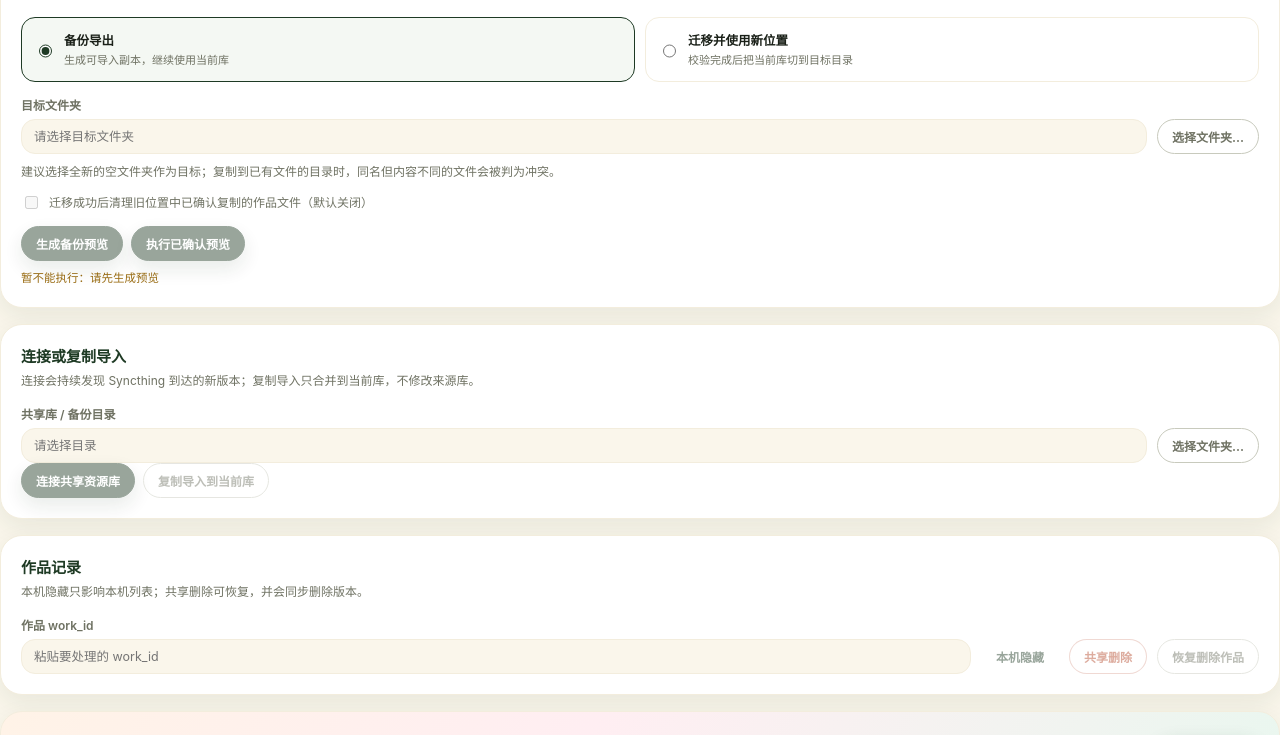
Test: 账号与资源库面板 › 复制导入按实际 copied 数量展示结果，而不是渲染结果对象
(page scrolled)
Click the button with test id "choose-library" at (1208, 445), box [1157,428,1259,463]
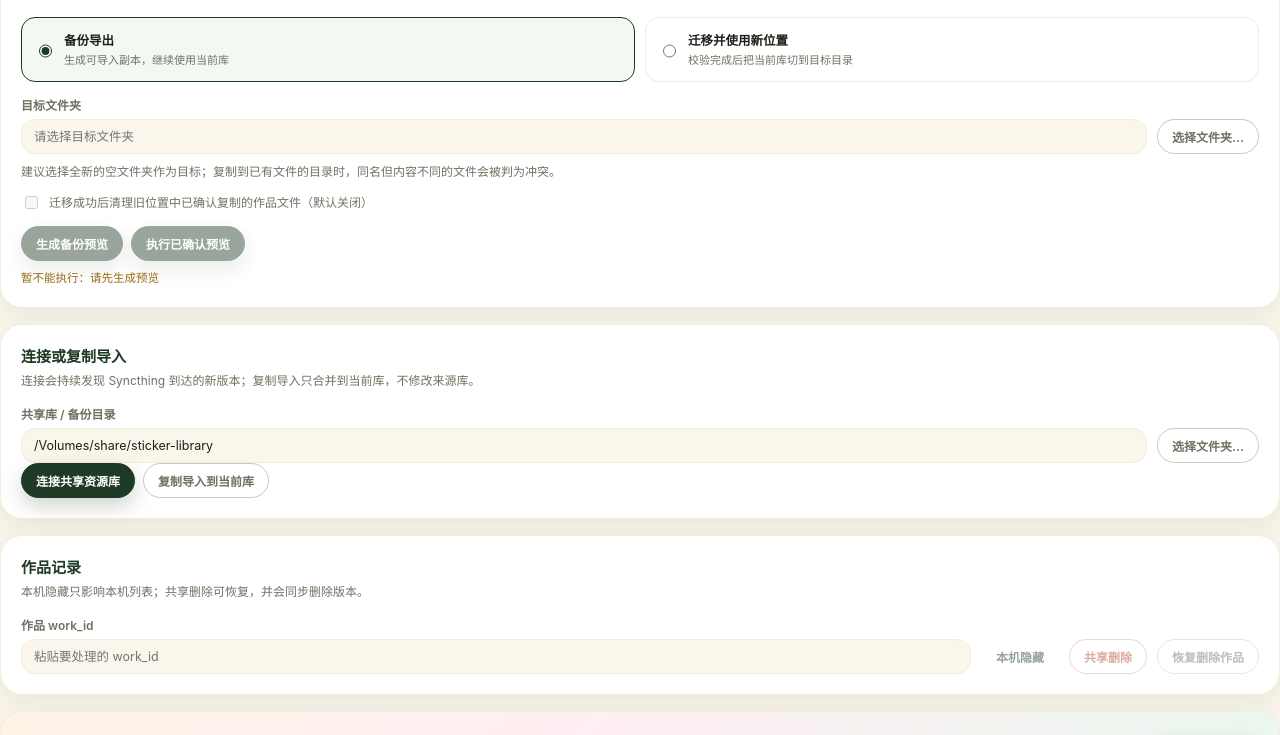
Click the button with test id "import-library" at (206, 480), box [143,463,269,498]
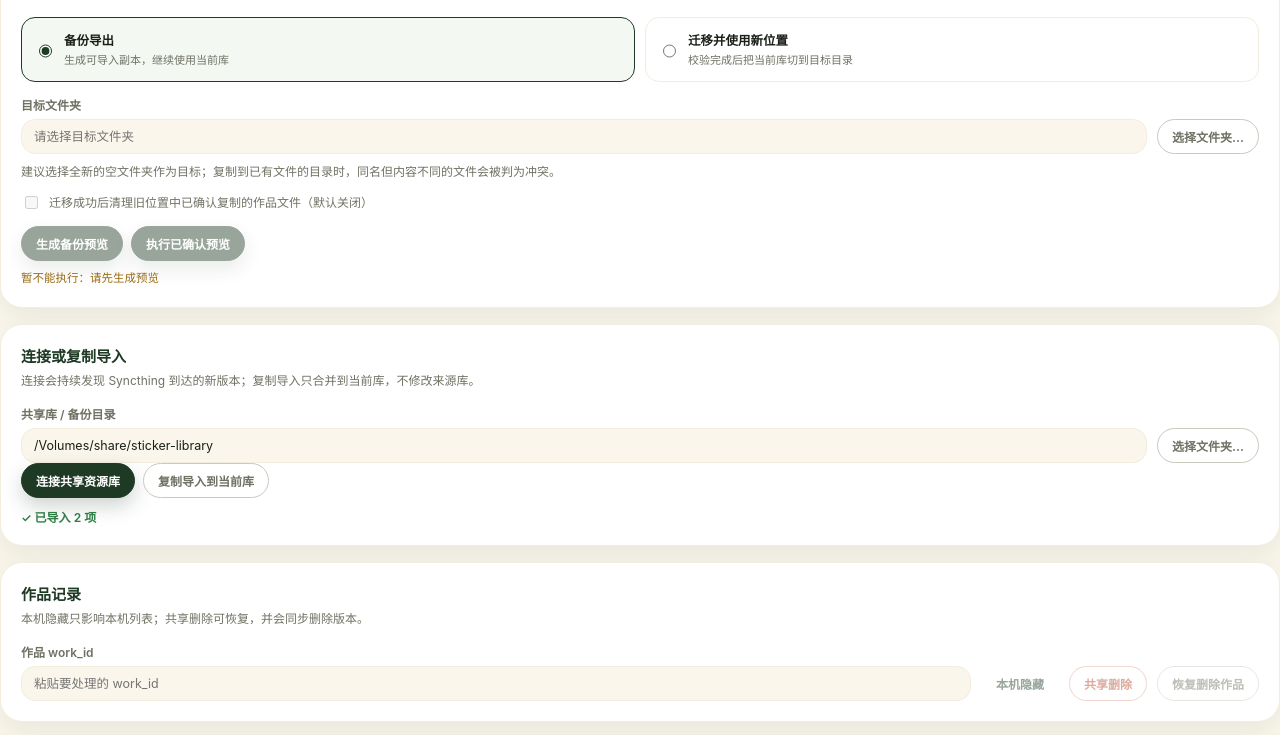
Now the text with test id "transfer-tip" shows "已导入 2 项", box [21,510,96,525]
